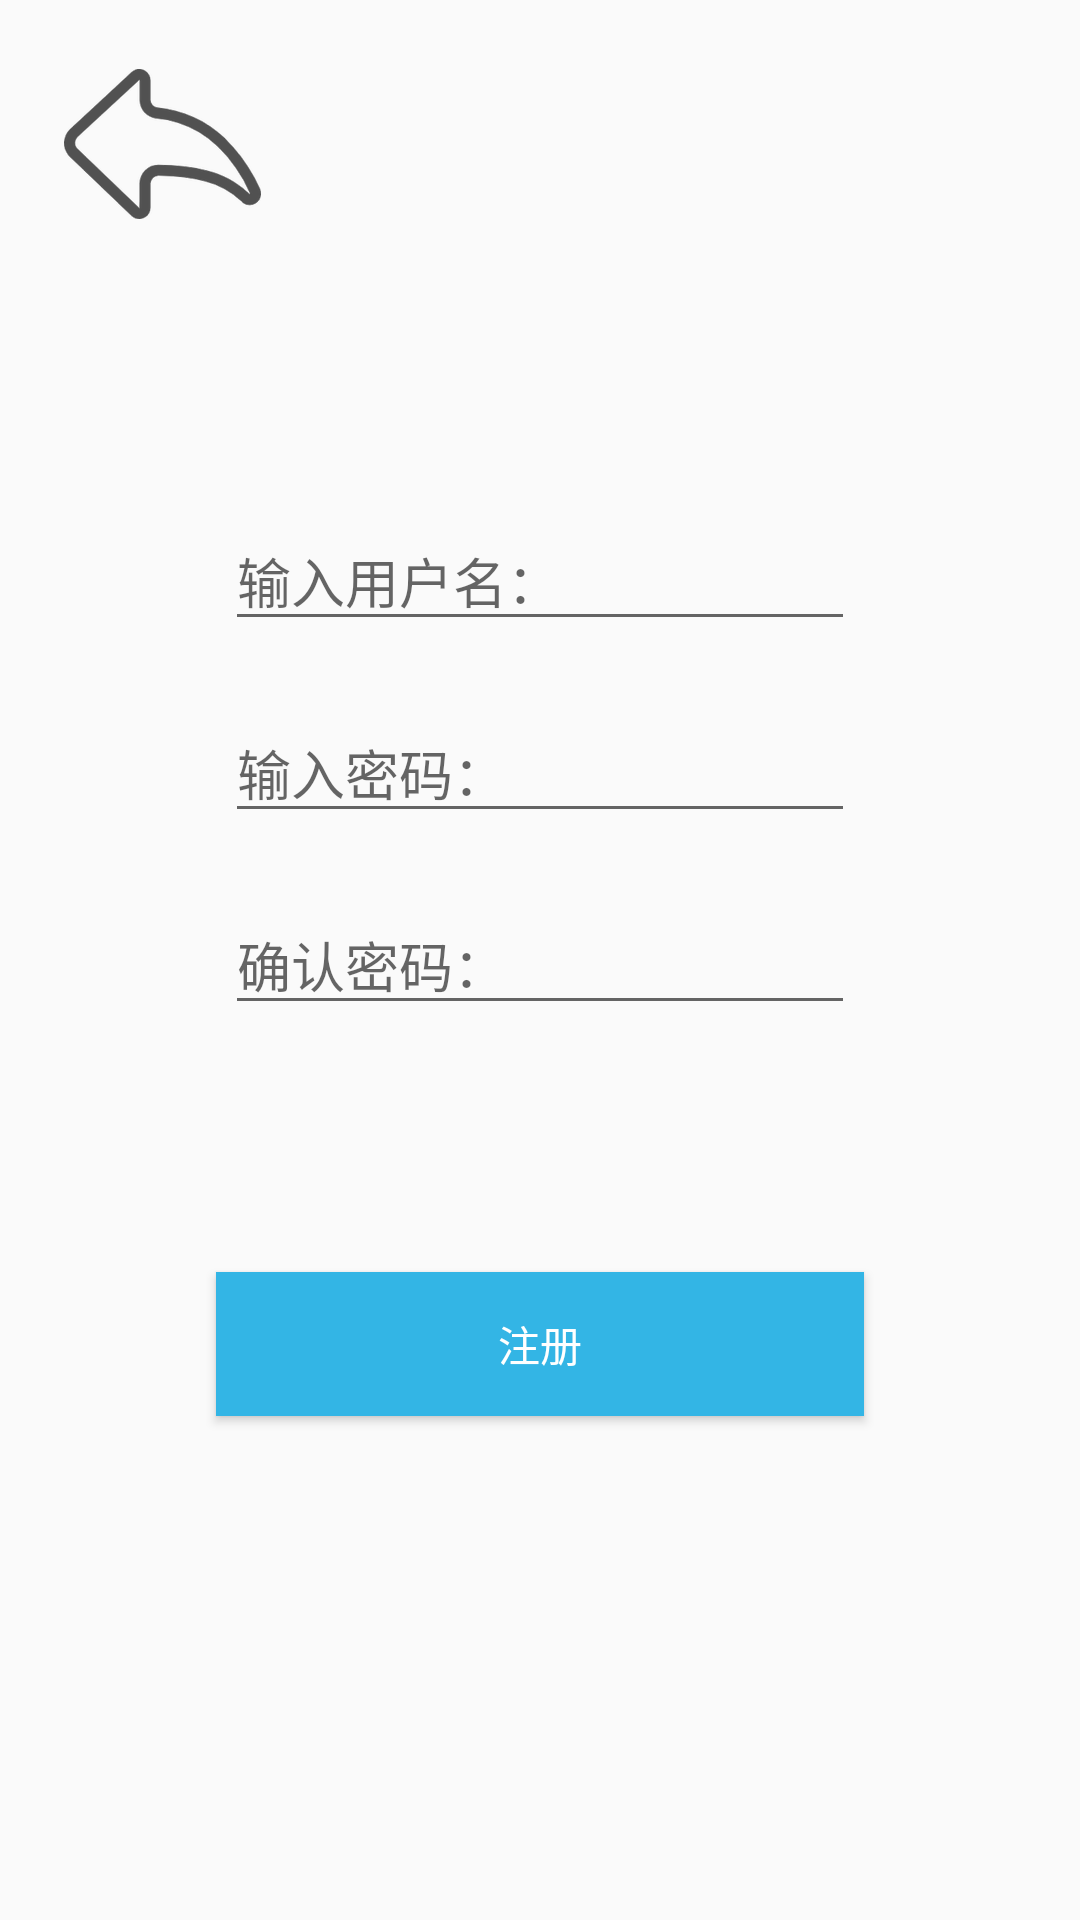

Where to tap for icons on this 1080 x 1920 app screen, as point (x, y):
fanhui: point (162, 144)
